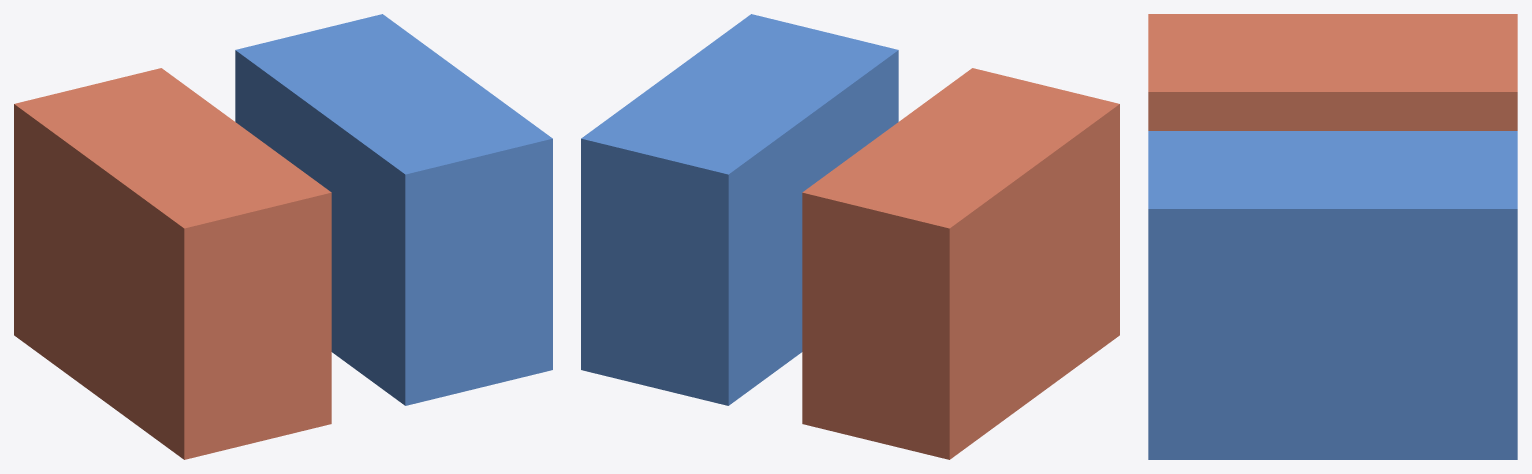
Rendered from two-colored-parts.gltf.
3 views of the same model, side by side, from view 1: azimuth 30°, elevation 25°; view 2: azimuth 150°, elevation 25°; view 3: azimuth 270°, elevation 25° (orthographic). The views are drawn at different scales.
Parts seen in each view (by area): view 1: Coral part, Blue part; view 2: Coral part, Blue part; view 3: Blue part, Coral part.
Part boxes in pixels (<box>): Coral part: <box>14,68,331,459</box>; Blue part: <box>235,14,552,405</box>; Coral part: <box>802,68,1119,459</box>; Blue part: <box>581,14,898,405</box>; Blue part: <box>1148,131,1517,459</box>; Coral part: <box>1148,14,1517,130</box>.
Size of the model in its own units: 0.05 by 0.03 by 0.04.
